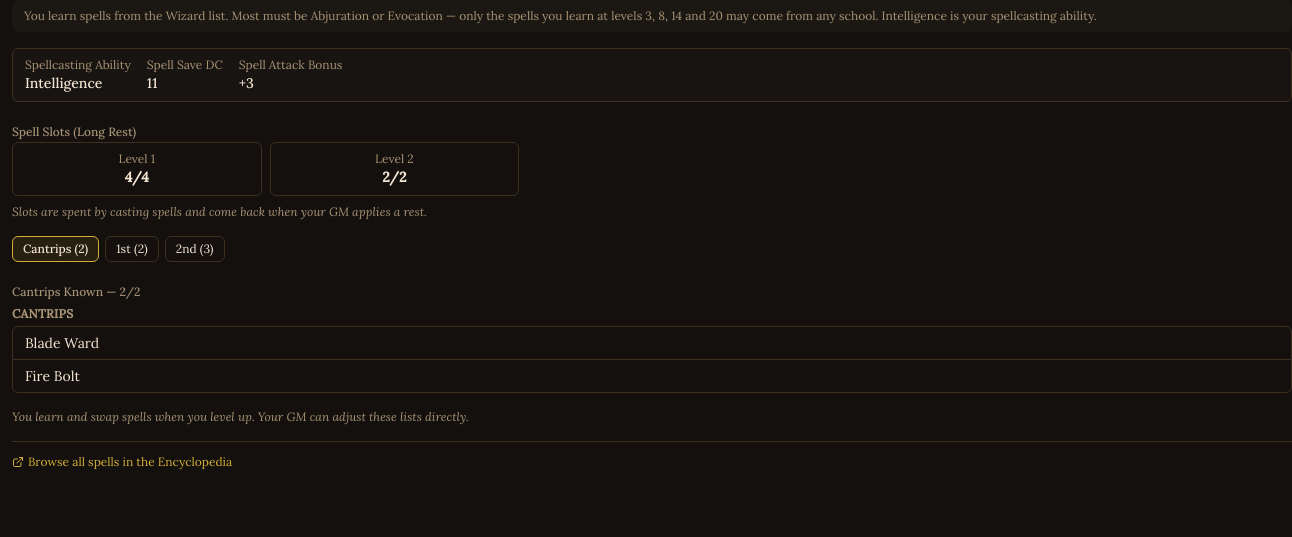
Test: ClassSheet — Eldritch Knight unified spell level strip › the 2nd-level tab shows BOTH sections, each keeping its full x/y capacity label
Expected: the element with test id "spell-level-tabs" is shown, [12,236,224,262]
Click the button with test id "spell-level-tab-2" at (195, 249), box [165,236,225,262]
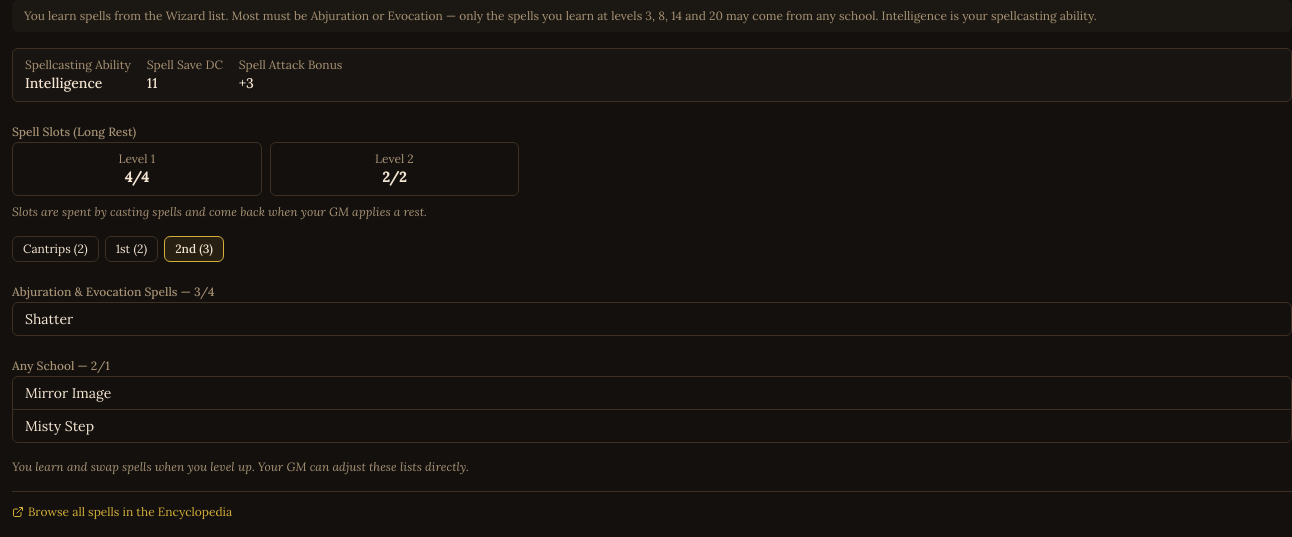
Expected: the element with test id "ek-known-restricted" shows "Abjuration & Evocation Spells — 3/", [12,284,214,299]
Expected: the button "Shatter" is shown, [25,309,1271,329]
Expected: the element with test id "ek-known-any" shows "Any School — 2/", [12,358,110,373]
